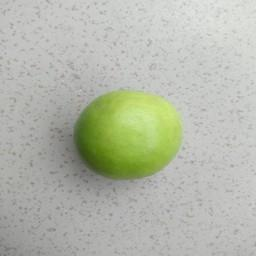Good_lime: (71, 87, 188, 184)
